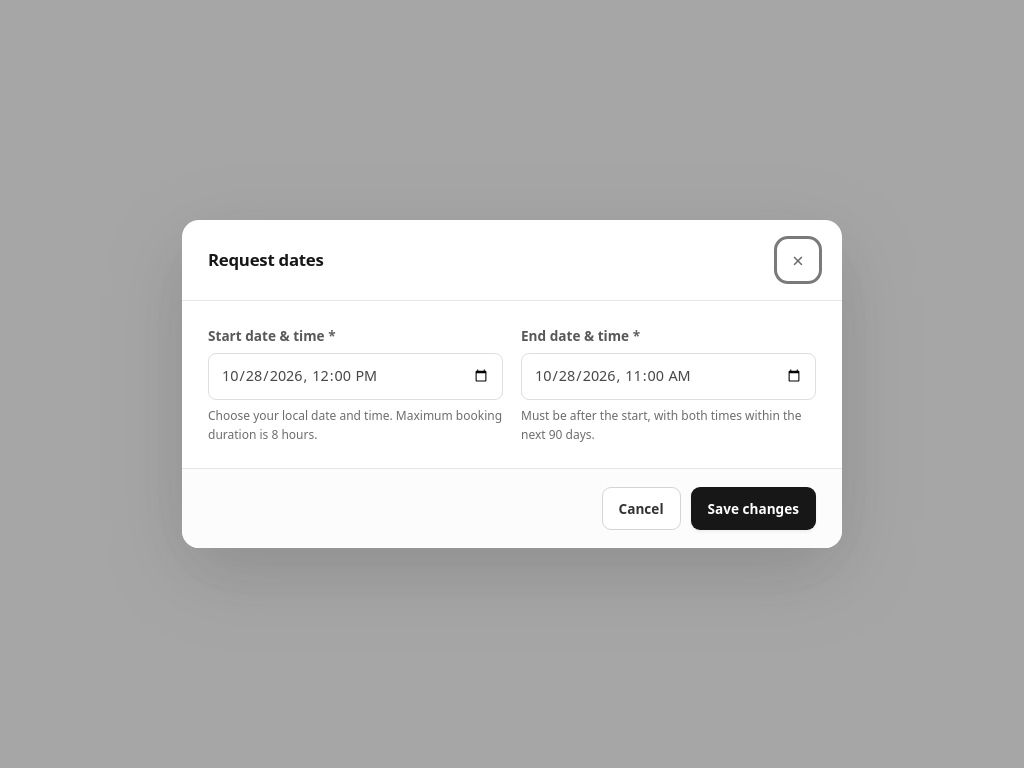
reversed reservation times produce inline linked errors and never submit
Click the button "Save changes": (753, 508) [690,487,816,530]
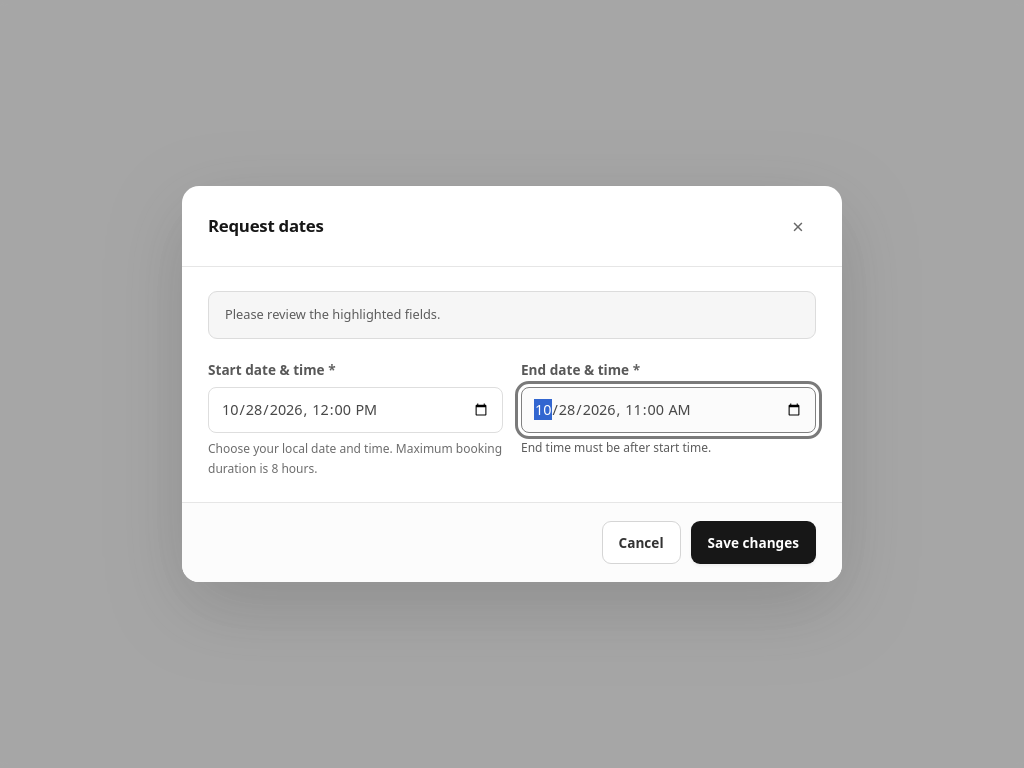
Expected: the text "End time must be after start time." is shown, [521,439,711,456]
